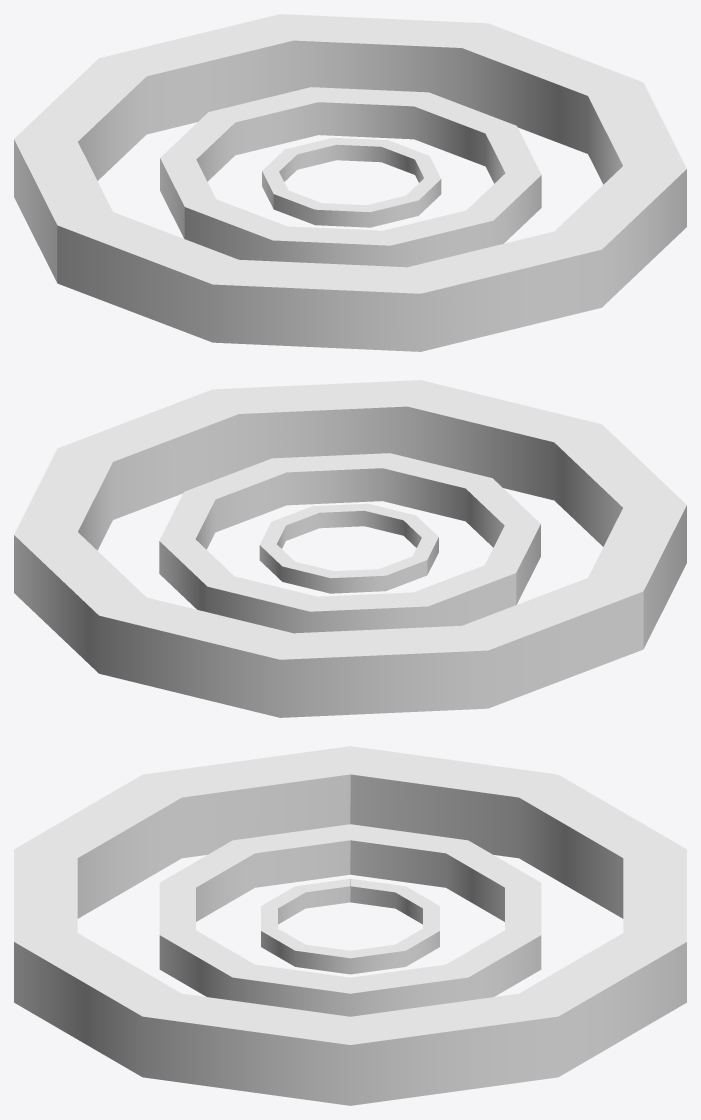
Rendered from Truss.fbx.
3 views of the same model, one above another, from view 1: azimuth 30°, elevation 25°; view 2: azimuth 150°, elevation 25°; view 3: azimuth 270°, elevation 25° (orthographic). The views are drawn at different scales.
Parts seen in each view (by area): view 1: Truss; view 2: Truss; view 3: Truss.
Part boxes in pixels (x1,y1,x2,y2): Truss: (14,14,686,351); Truss: (14,380,686,717); Truss: (14,746,686,1105).
Size of the model in its own units: 2110 by 200 by 2007.
